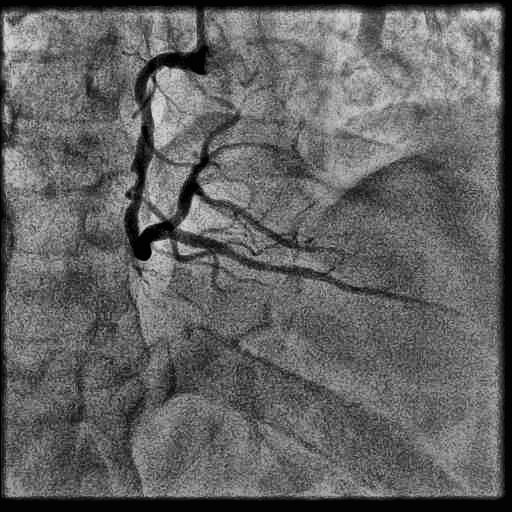pborca: (170, 179, 335, 252)
pda: (172, 229, 418, 303)
rca: (124, 52, 196, 260)
